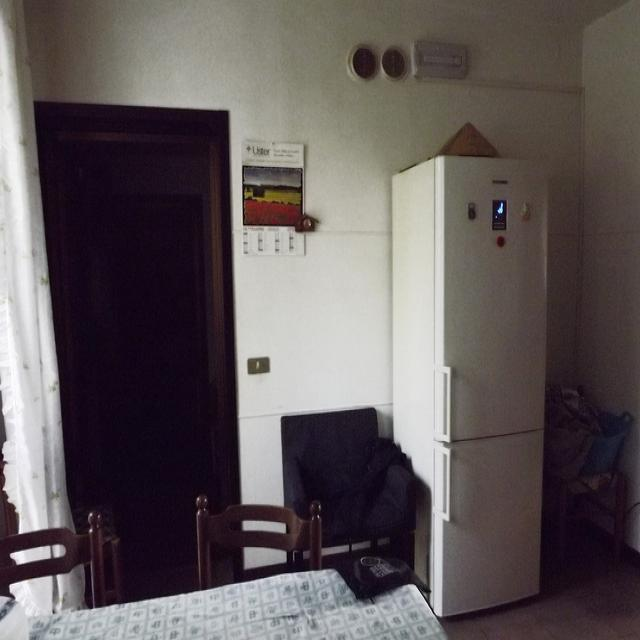chair: (0, 389, 101, 609), (282, 416, 410, 560), (197, 495, 324, 589), (541, 463, 628, 583)
dining table: (19, 553, 448, 640)
